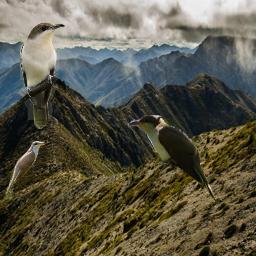Cuckoo: (127, 115, 215, 202), (20, 22, 65, 129), (3, 141, 45, 200)
